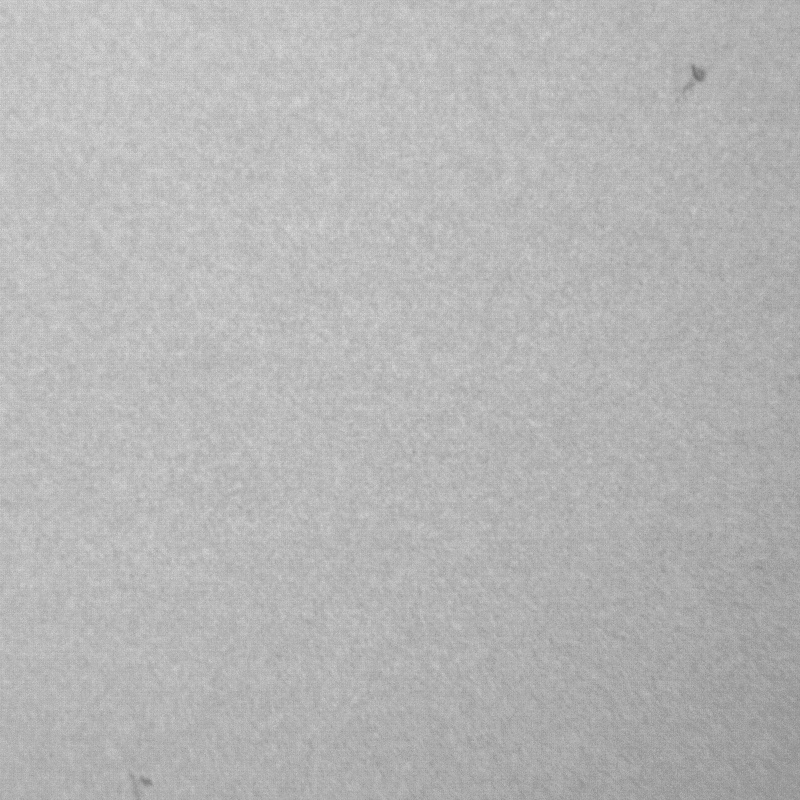defect: (123, 767, 164, 800), (683, 68, 705, 95)
